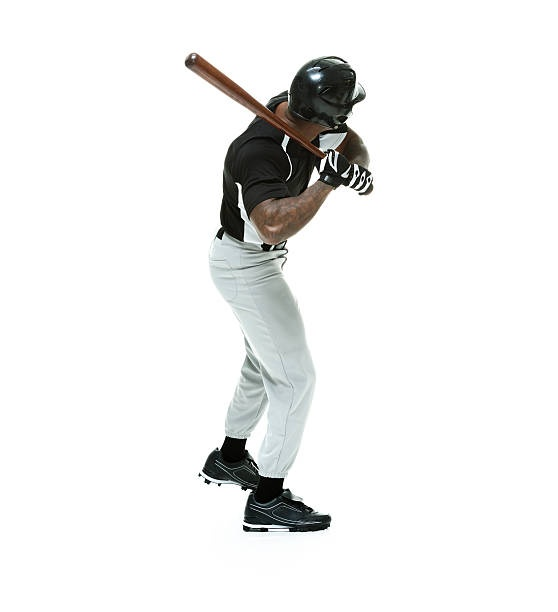bita: (165, 52, 362, 174)
